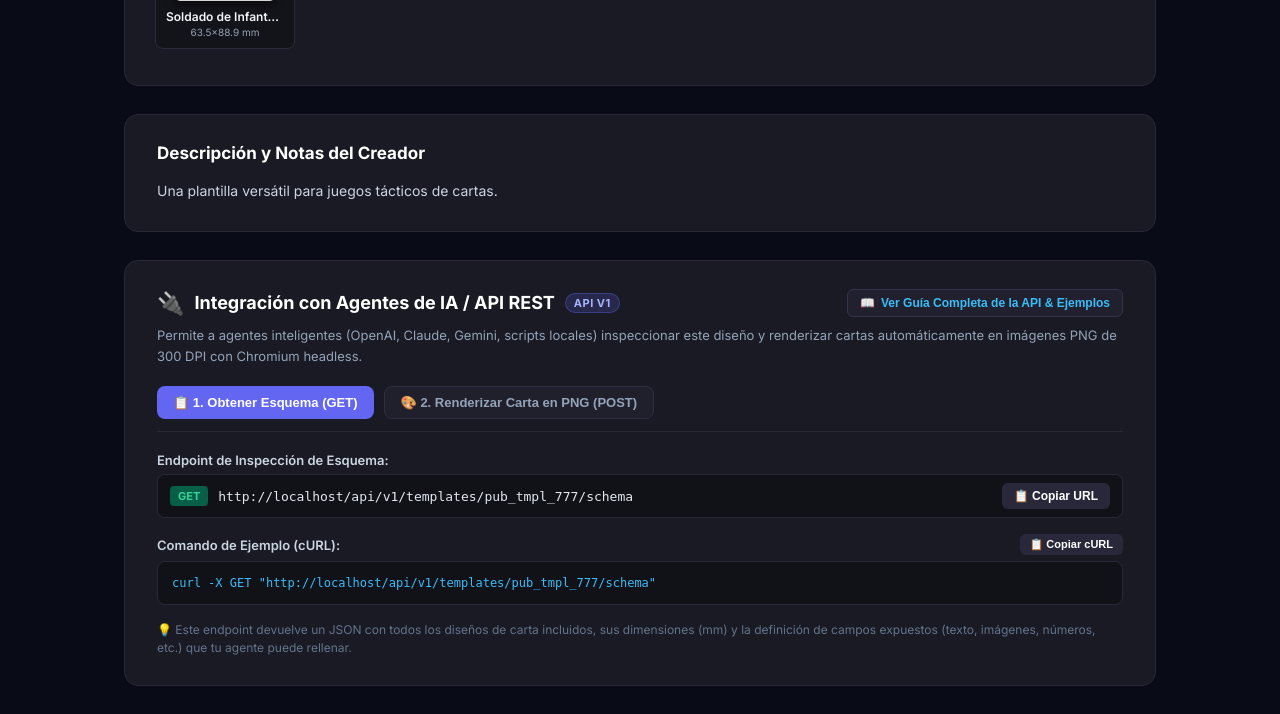
SRS-077: Panel de Integración con Agentes de IA en Tienda › debe actualizar el texto del botón al copiar al portapapeles
The image size is (1280, 714).
(page scrolled)
What coordinates should you click on to do the following:
click the button with test id "copy-schema-url-btn"
I would click on:
 (1056, 496)
Its box is x1=1002 y1=483 x2=1110 y2=509.
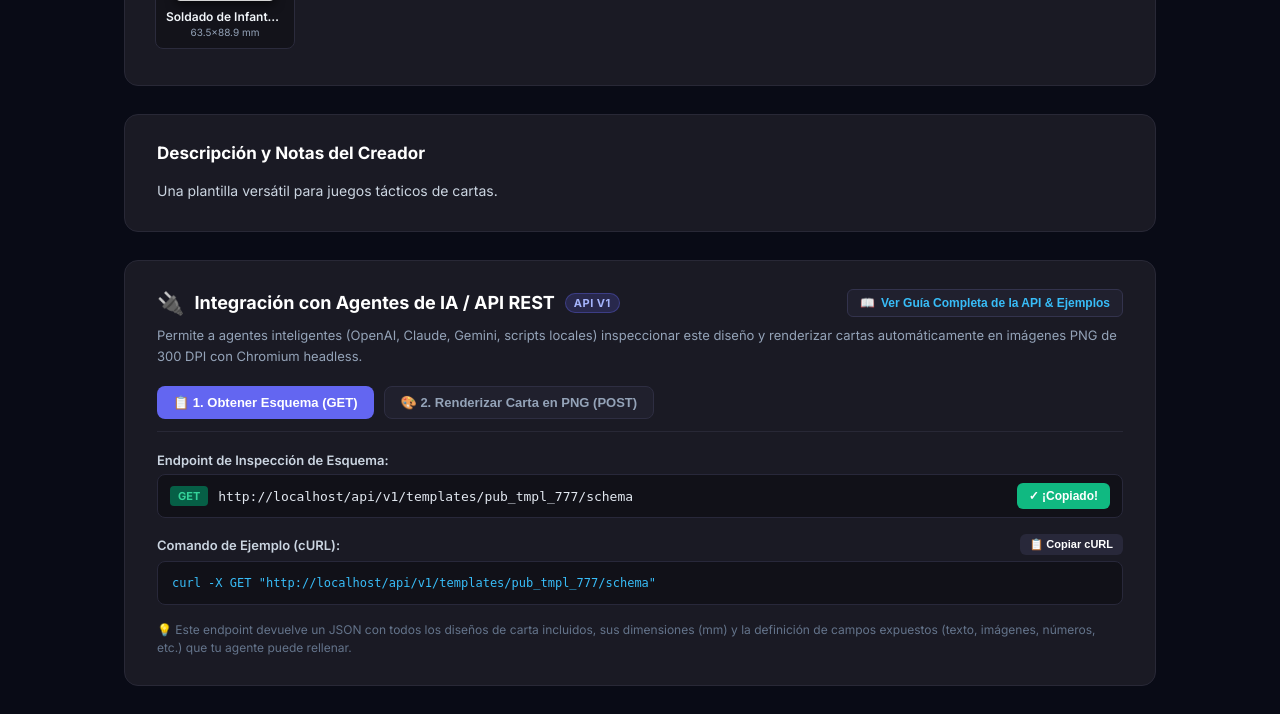
Now the button with test id "copy-schema-url-btn" shows "¡Copiado!", box x1=1017 y1=483 x2=1110 y2=509
